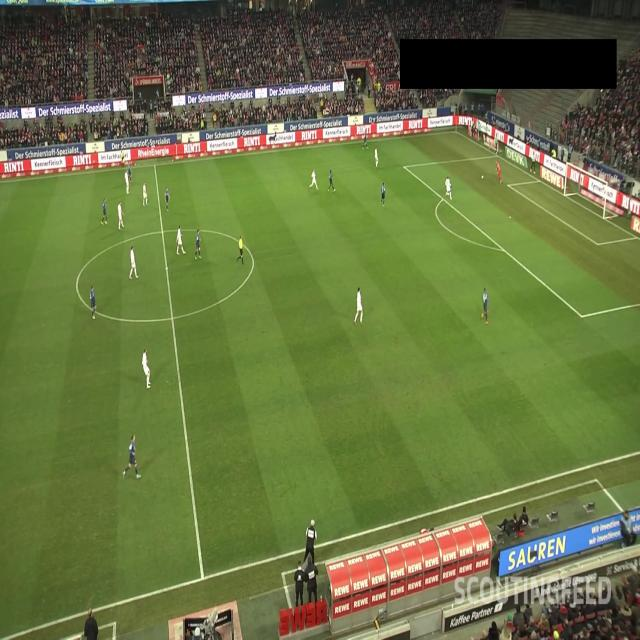ball: (481, 174, 484, 180)
goalkeeper: (496, 160, 502, 183)
player: (122, 433, 142, 480), (142, 348, 151, 389), (354, 287, 363, 325), (129, 245, 139, 279), (176, 224, 186, 254), (482, 287, 489, 325), (194, 228, 202, 260), (90, 284, 96, 320), (327, 169, 336, 192), (309, 168, 318, 191), (101, 198, 108, 225), (118, 201, 124, 230), (445, 176, 452, 200), (380, 181, 386, 206), (142, 182, 148, 206), (165, 186, 170, 212), (124, 170, 129, 195), (362, 130, 368, 150), (374, 146, 379, 168), (127, 162, 132, 183)
referee: (237, 235, 244, 265), (121, 148, 125, 169)
